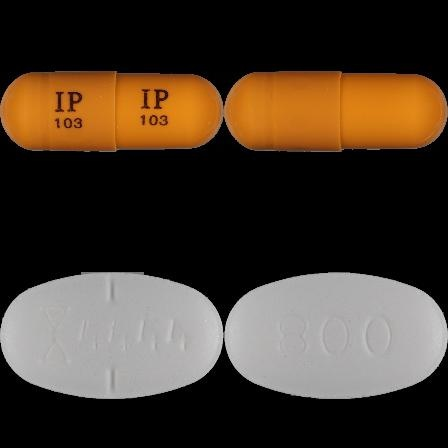50436-7284: (0, 0, 224, 224)
